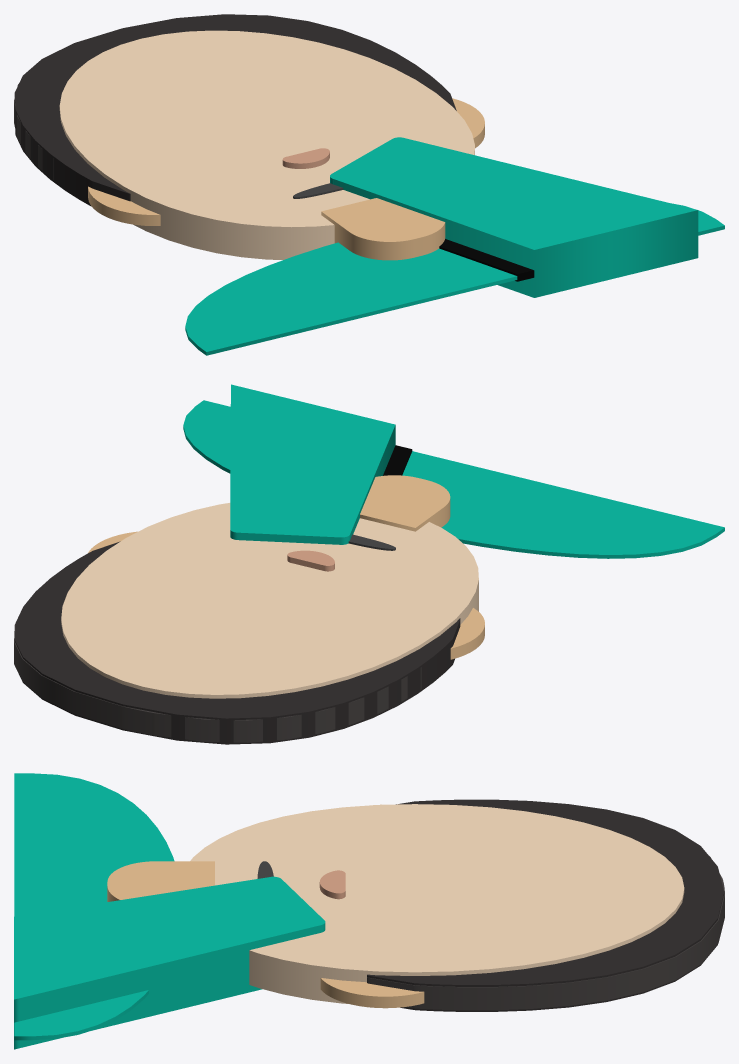
The model's file is emoji_u1f926_1f3fb_200d_2642.glb.
The picture shows the model from 3 angles, top to bottom: view 1: azimuth 30°, elevation 25°; view 2: azimuth 150°, elevation 25°; view 3: azimuth 270°, elevation 25°; orthographic projection. The views are drawn at different scales.
Parts seen in each view (by area): view 1: emoji_u1f926_1f3fb_200d_2642; view 2: emoji_u1f926_1f3fb_200d_2642; view 3: emoji_u1f926_1f3fb_200d_2642.
Boxes of the visible parts, x1,y1,x2,y2 form: emoji_u1f926_1f3fb_200d_2642: [14, 14, 724, 355]; emoji_u1f926_1f3fb_200d_2642: [14, 384, 724, 744]; emoji_u1f926_1f3fb_200d_2642: [14, 773, 724, 1049].
Bounding box in the file's own units: 0.0294 × 0.0026 × 0.0335.
